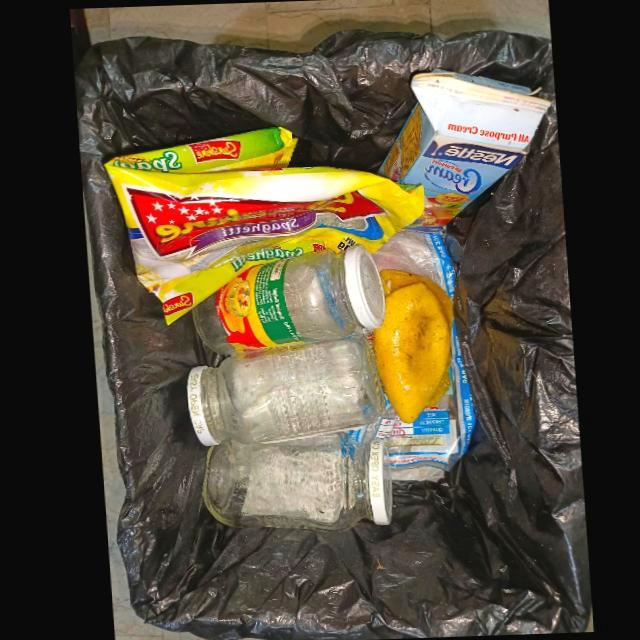food_wrapper: (101, 127, 424, 324)
glass_bottle: (183, 335, 382, 446), (189, 244, 384, 354), (198, 432, 390, 531)
plastic_bag: (345, 319, 472, 471), (370, 226, 454, 301)
